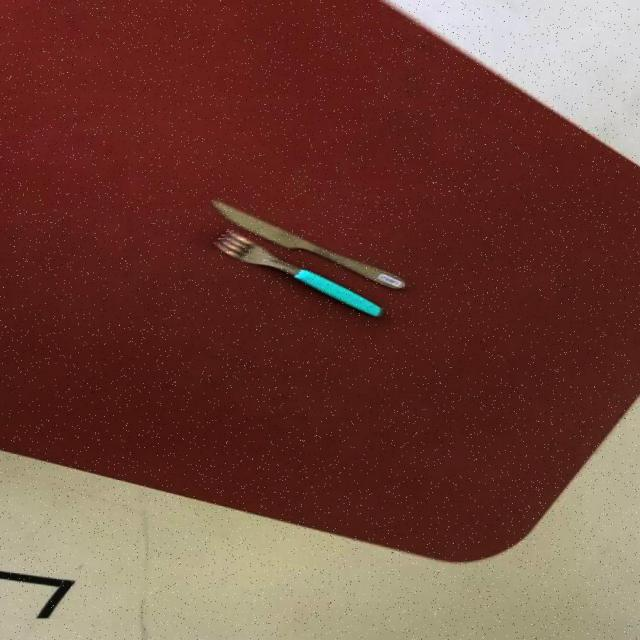Fork: (210, 229, 383, 318)
Knife: (208, 198, 406, 290)
